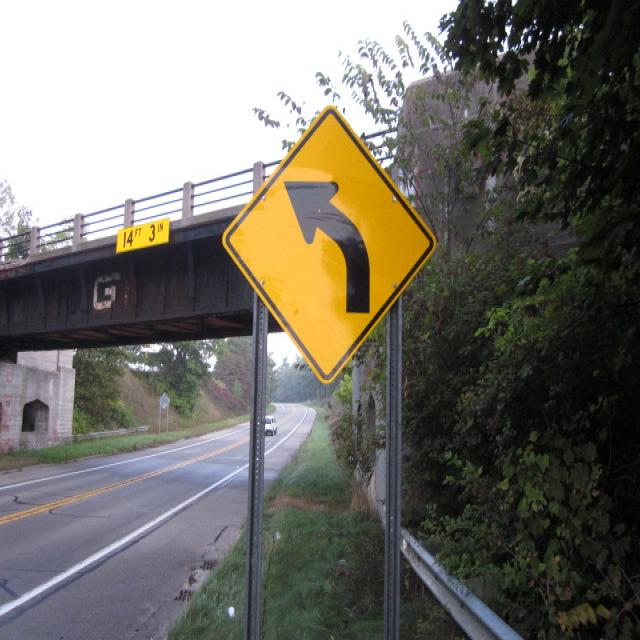warning: (218, 104, 438, 388)
